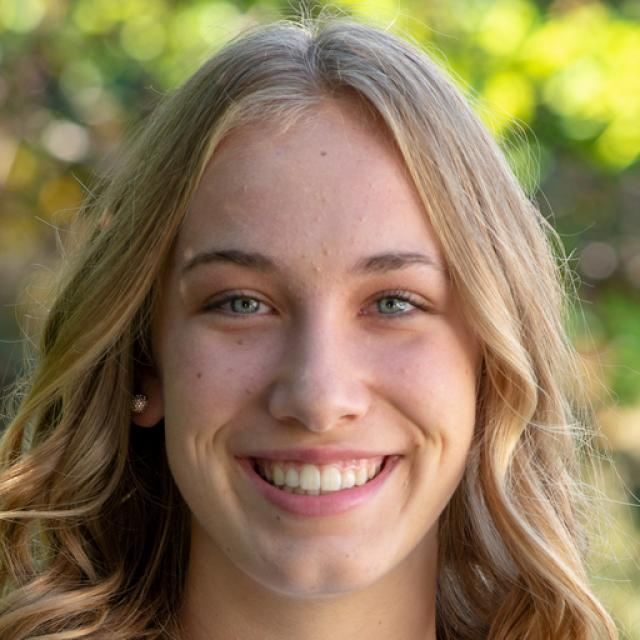Acne: (349, 212, 372, 230), (241, 381, 259, 402), (306, 260, 323, 280), (318, 242, 332, 260), (311, 212, 326, 225)
